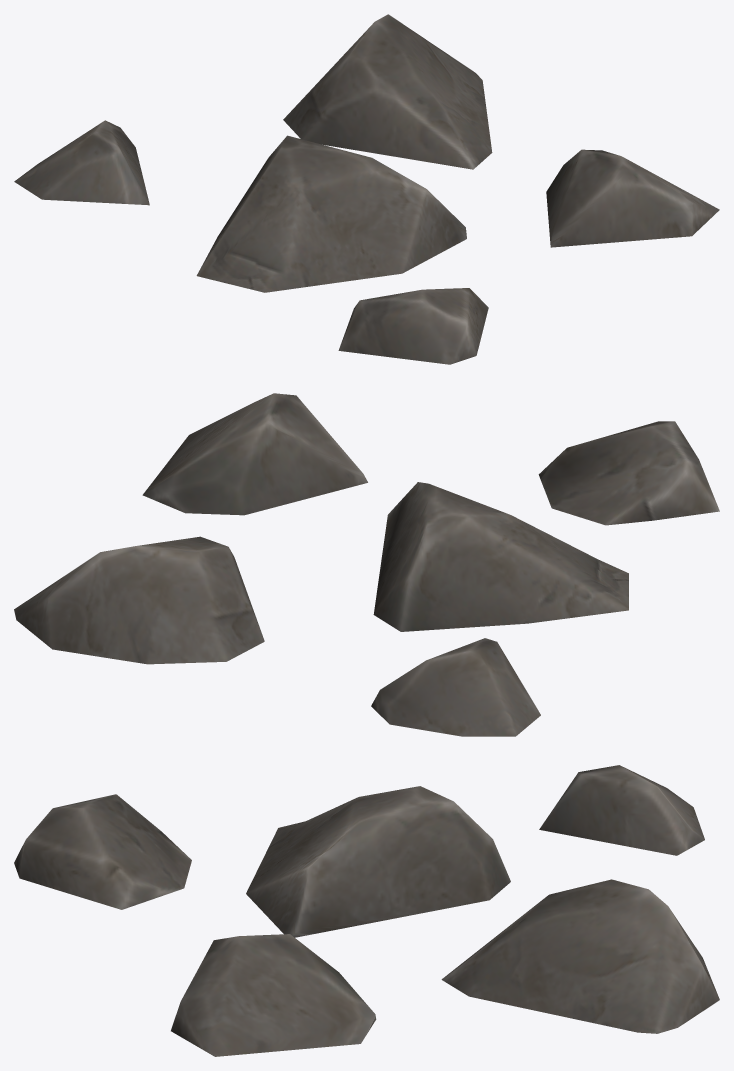
Rendered from Rock05.FBX.
3 views of the same model, one above another, from view 1: azimuth 30°, elevation 25°; view 2: azimuth 150°, elevation 25°; view 3: azimuth 270°, elevation 25° (orthographic). The views are drawn at different scales.
Parts seen in each view (by area): view 1: Rock05; view 2: Rock05; view 3: Rock05.
Part boxes in pixels (x1=…): Rock05: x1=14, y1=14, x2=719, y2=364; Rock05: x1=14, y1=393, x2=719, y2=736; Rock05: x1=14, y1=765, x2=719, y2=1056.
Size of the model in its own units: 4.57 by 5.07 by 0.6971.
